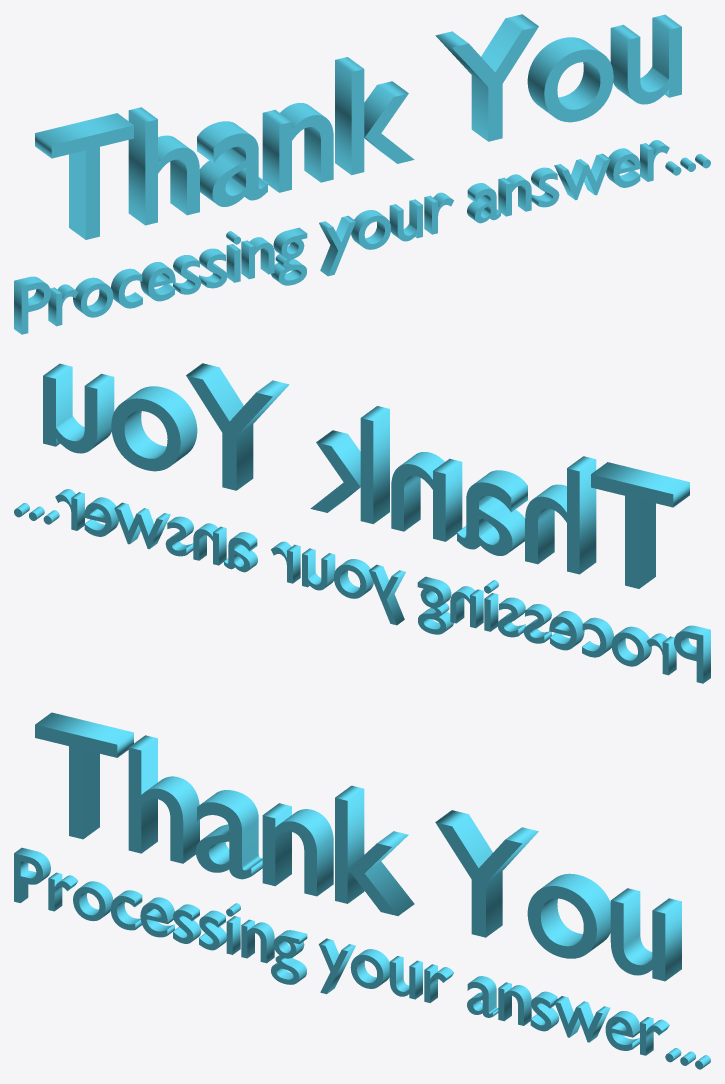
Rendered from console_processing_answer.fbx.
3 renders of one model, top to bottom at view 1: azimuth 30°, elevation 25°; view 2: azimuth 150°, elevation 25°; view 3: azimuth 330°, elevation 25°, orthographic.
Visible parts, largest first — view 1: Txt_Test_01.001, Txt_Test_01.063; view 2: Txt_Test_01.001, Txt_Test_01.063; view 3: Txt_Test_01.001, Txt_Test_01.063.
Part boxes in pixels (x1=…): Txt_Test_01.001: x1=35, y1=14, x2=681, y2=239; Txt_Test_01.063: x1=14, y1=140, x2=710, y2=334; Txt_Test_01.001: x1=43, y1=363, x2=689, y2=588; Txt_Test_01.063: x1=14, y1=489, x2=710, y2=683; Txt_Test_01.001: x1=35, y1=712, x2=681, y2=981; Txt_Test_01.063: x1=14, y1=847, x2=710, y2=1069.
Bounding box in the file's own units: 1.45 × 0.4084 × 0.0609.
